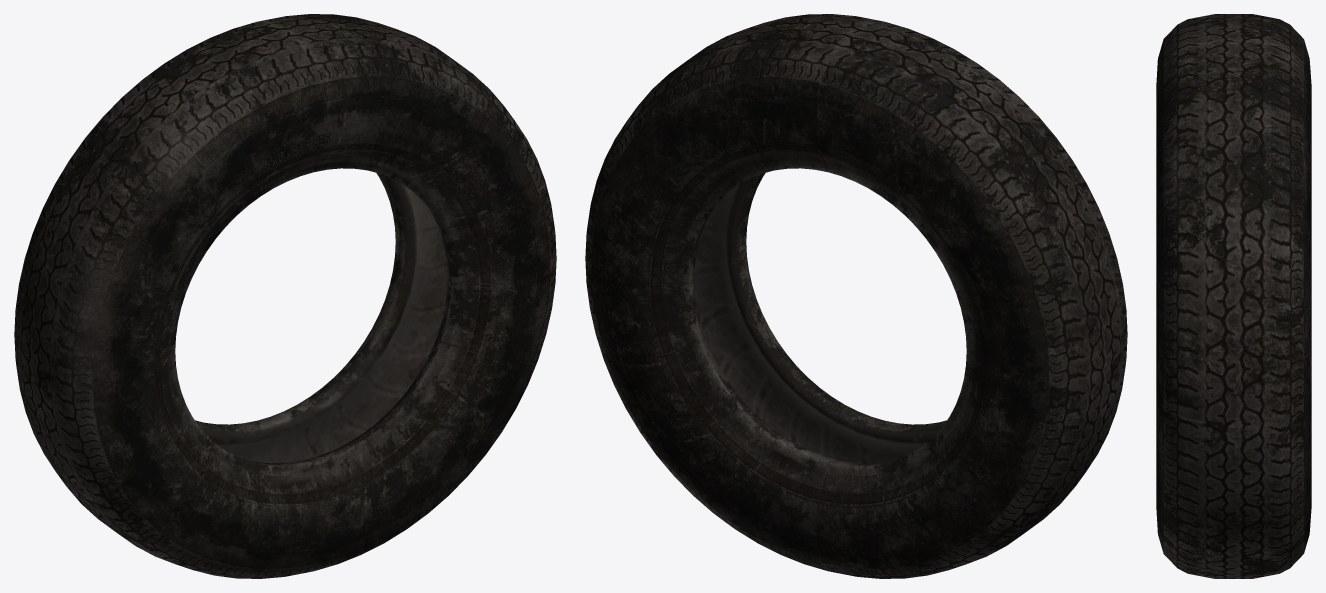
The model's file is old_tyre.glb.
3 views of the same model, side by side, from view 1: azimuth 30°, elevation 25°; view 2: azimuth 150°, elevation 25°; view 3: azimuth 270°, elevation 25° (orthographic). The views are drawn at different scales.
Visible parts, largest first — view 1: old_tyre; view 2: old_tyre; view 3: old_tyre.
Boxes of the visible parts, x1=… form: old_tyre: x1=14, y1=14, x2=556, y2=578; old_tyre: x1=585, y1=14, x2=1127, y2=578; old_tyre: x1=1156, y1=14, x2=1311, y2=578.
Size of the model in its own units: 0.6 by 0.6 by 0.165.
Materials: 1 (1 with a texture image).
